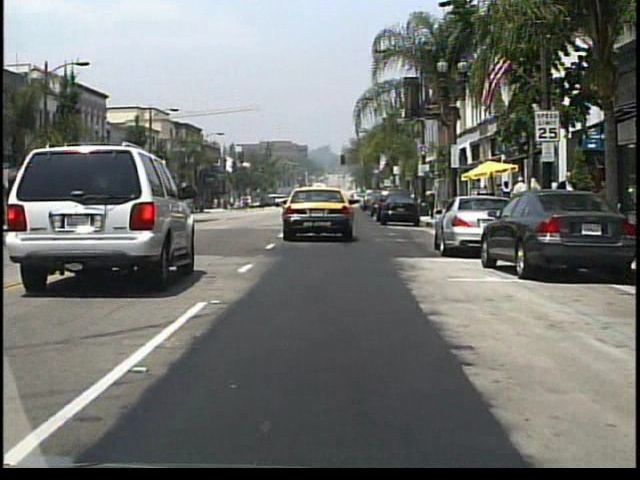person: (554, 167, 582, 236), (511, 175, 530, 219), (544, 175, 560, 219), (525, 178, 541, 216), (500, 179, 514, 218), (259, 192, 267, 207)
